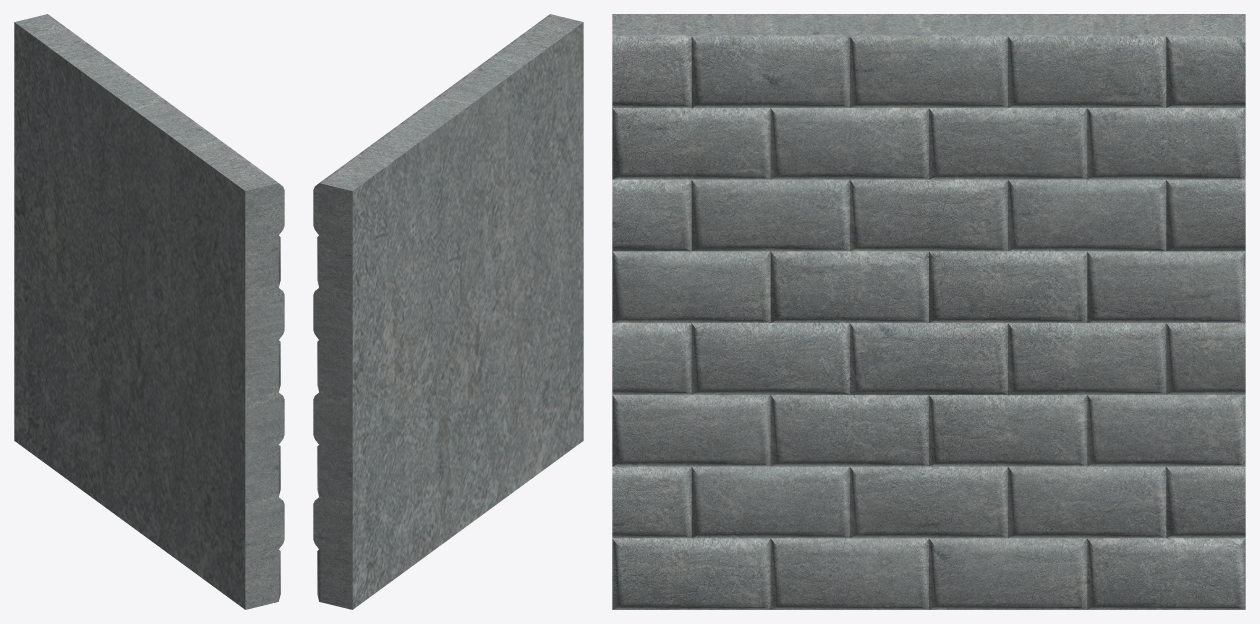
Rendered from Geomorph-StoneBrick-wall01.glb.
3 views of the same model, side by side, from view 1: azimuth 30°, elevation 25°; view 2: azimuth 150°, elevation 25°; view 3: azimuth 270°, elevation 25° (orthographic). The views are drawn at different scales.
Parts seen in each view (by area): view 1: Wall; view 2: Wall; view 3: Wall.
Boxes of the visible parts, x1=… form: Wall: x1=14, y1=14, x2=284, y2=609; Wall: x1=313, y1=14, x2=583, y2=609; Wall: x1=612, y1=14, x2=1245, y2=609.
Bounding box in the file's own units: 0.2931 × 3 × 3.
Materials: 1 (1 with a texture image).
